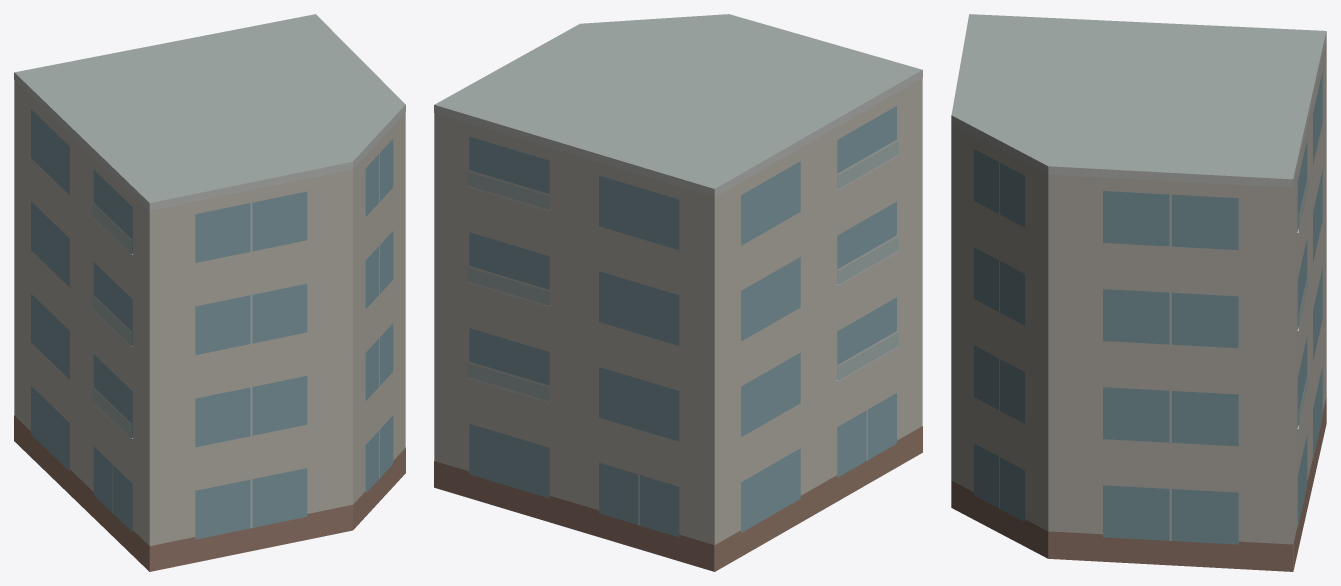
Rendered from survey-upis-32750032.glb.
3 views of the same model, side by side, from view 1: azimuth 30°, elevation 25°; view 2: azimuth 150°, elevation 25°; view 3: azimuth 270°, elevation 25° (orthographic). The views are drawn at different scales.
Visible parts, largest first — view 1: survey-upis-32750032.tmp; view 2: survey-upis-32750032.tmp; view 3: survey-upis-32750032.tmp.
Part boxes in pixels (x1=…): survey-upis-32750032.tmp: x1=14, y1=14, x2=405, y2=571; survey-upis-32750032.tmp: x1=434, y1=14, x2=922, y2=571; survey-upis-32750032.tmp: x1=951, y1=14, x2=1326, y2=571.
Bounding box in the file's own units: 10.4 × 11.5 × 9.97.
